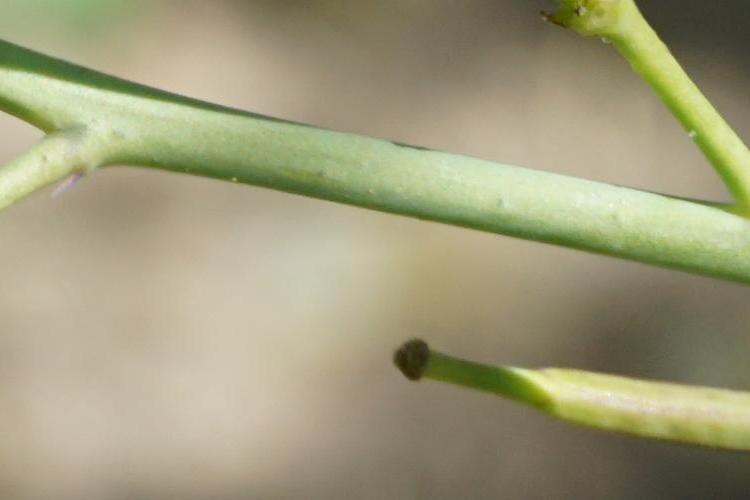pod: (359, 343, 748, 482)
